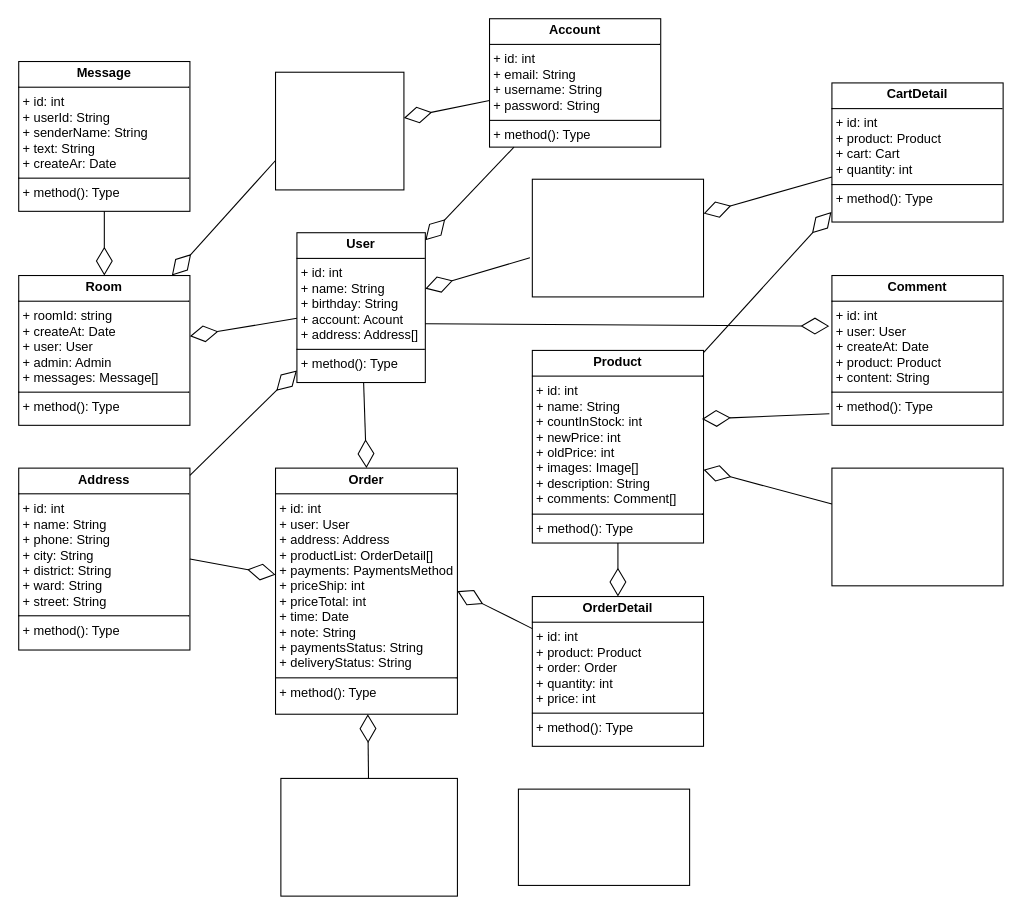
Image size: 1022x915. Some labels were removed from this diagram. The box of each missing label's shape, as (x1, y1, x2, y2) in pixels:
Admin + id: int + name: String + account: Account + method(): Type: (274, 71, 404, 190)
Cart + id: int + user: User + productList: CartDetail[] + method(): Type: (531, 178, 704, 297)
Image + id: int + url: String + product: Product + method(): Type: (831, 467, 1003, 586)
Payments + field: Type + method(): Type: (517, 788, 690, 885)
PaymentsMethod + id: int + name: String + description: String + method(): Type: (280, 777, 457, 896)
